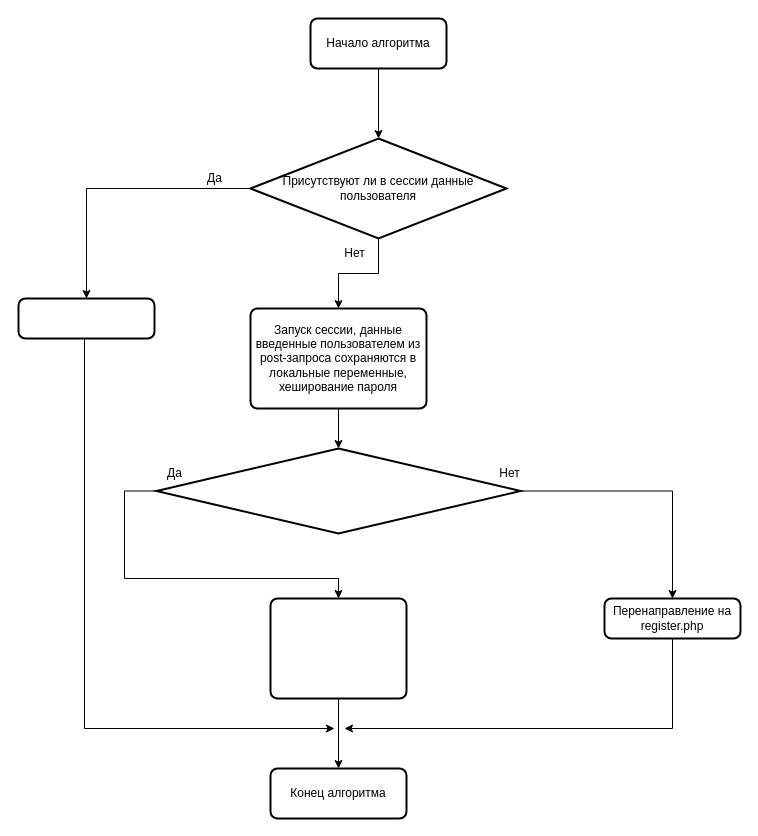
The diagram is 758 pixels wide and 836 high, and some of its shapes have lost their labels. The shapes that lost their labels are listed below. From the top down, each one's centre as x and y in pixels, then its label:
point 86,318: Перенаправление на profile.php
point 338,490: Присутствует ли такой пользователь в базе данных
point 338,648: Внесение данных в сессию, перенаправление на profile.php
